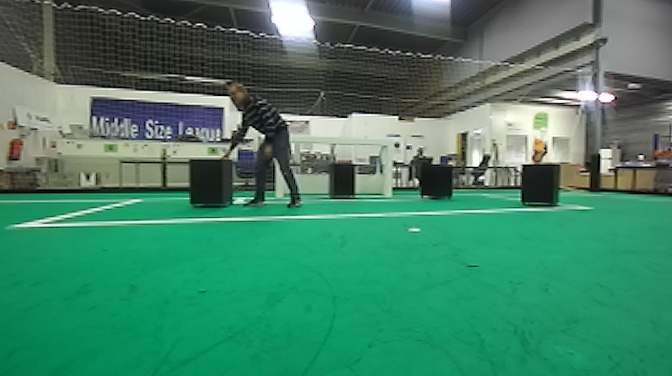goalpost: (378, 144, 397, 197), (271, 154, 287, 200)
human: (216, 80, 307, 211)
